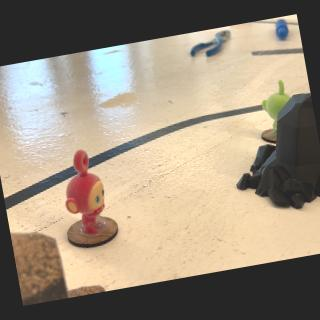teletubby: (66, 150, 105, 235), (262, 80, 291, 133)
